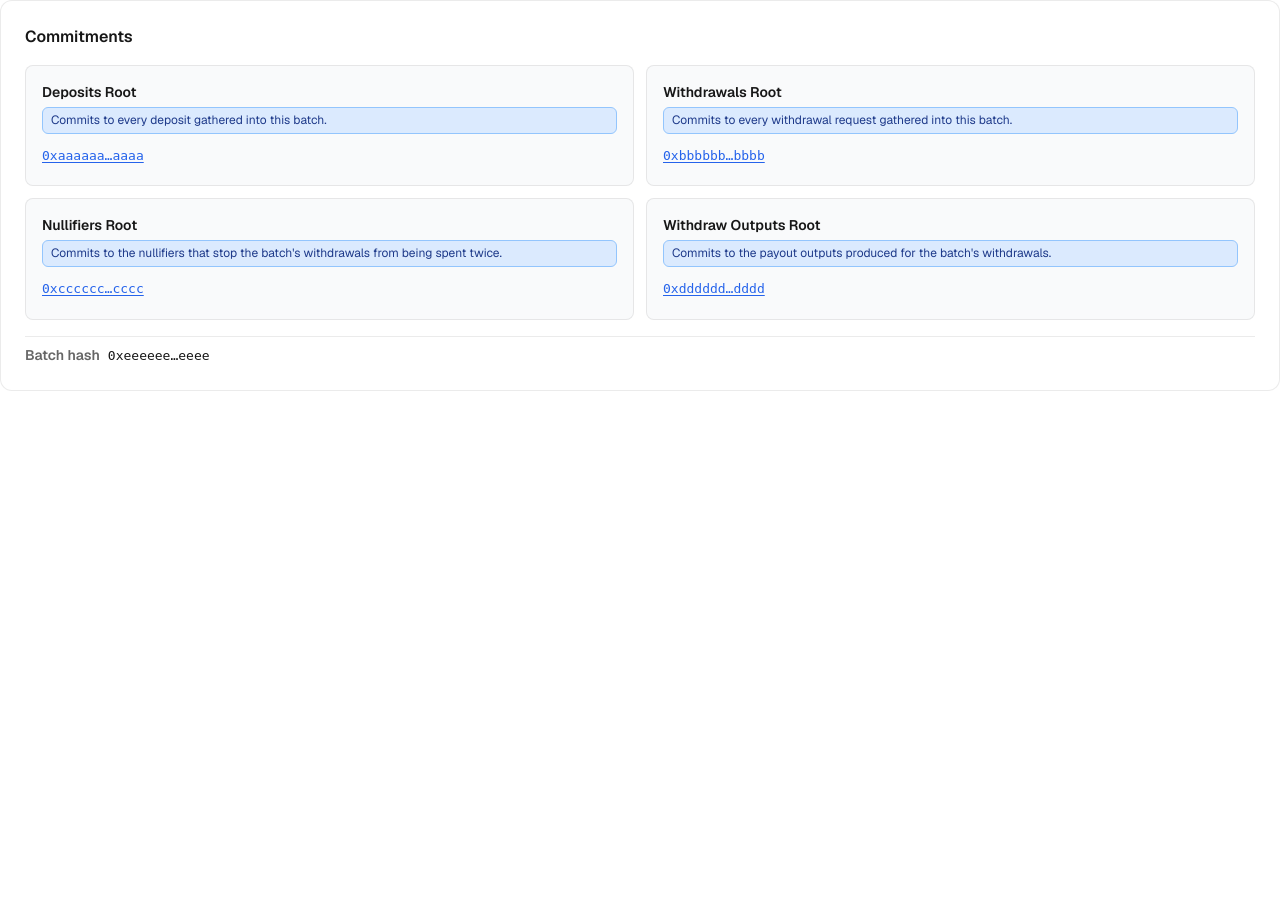
Scenario: CommitmentsCard › opens the reveal modal and copies the full root value on Copy (Req 7.9)
Note: Clicking a present root opens the reveal modal showing the full hex.
Click the button with aria-label "Reveal full Deposits Root".
click(93, 156)  # box x1=42 y1=142 x2=144 y2=169
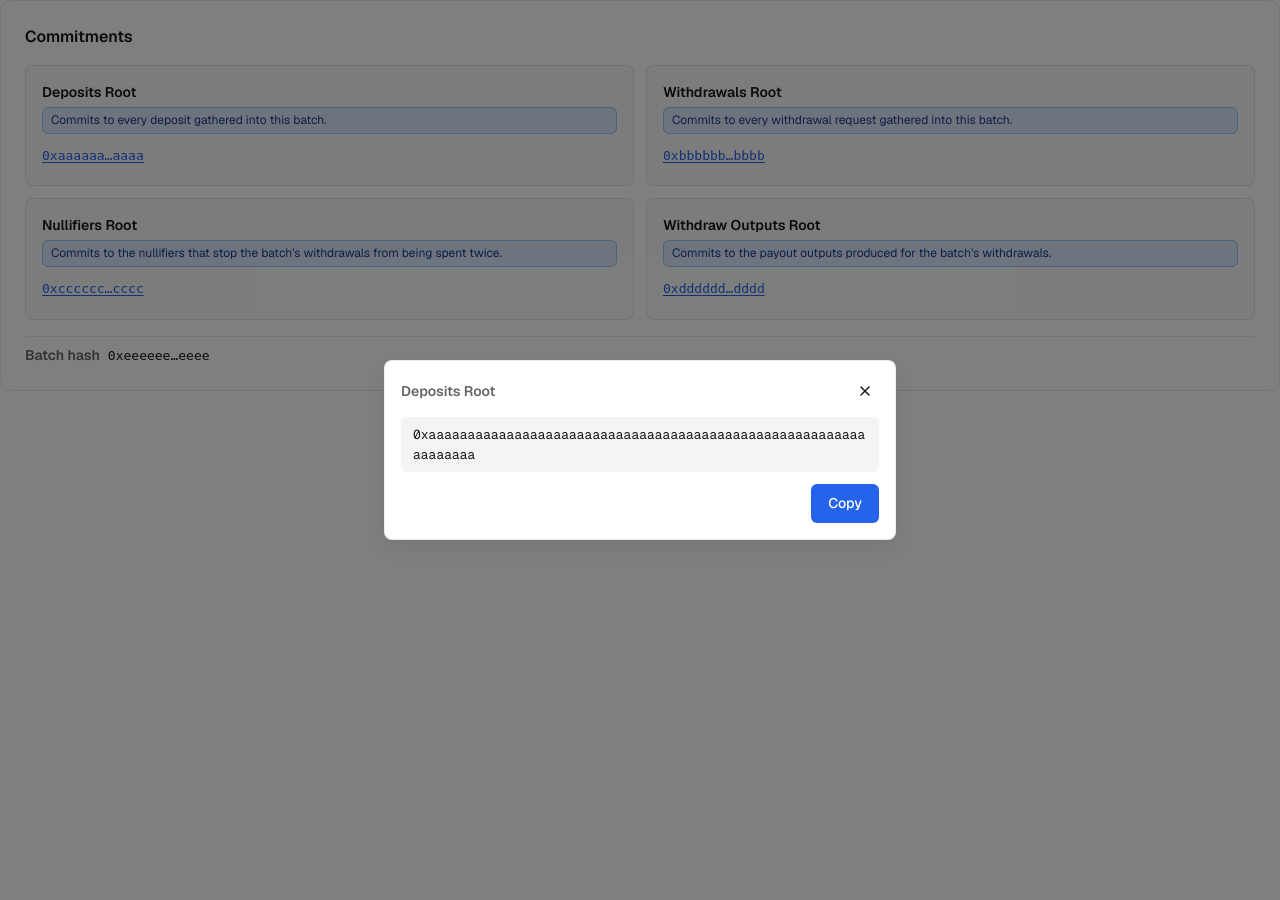
Now the dialog "Deposits Root" is shown, box x1=384 y1=360 x2=896 y2=540
Note: Copy writes the full (un-shortened) value to the clipboard.
Click the button "Copy".
click(845, 504)  # box x1=811 y1=484 x2=879 y2=523
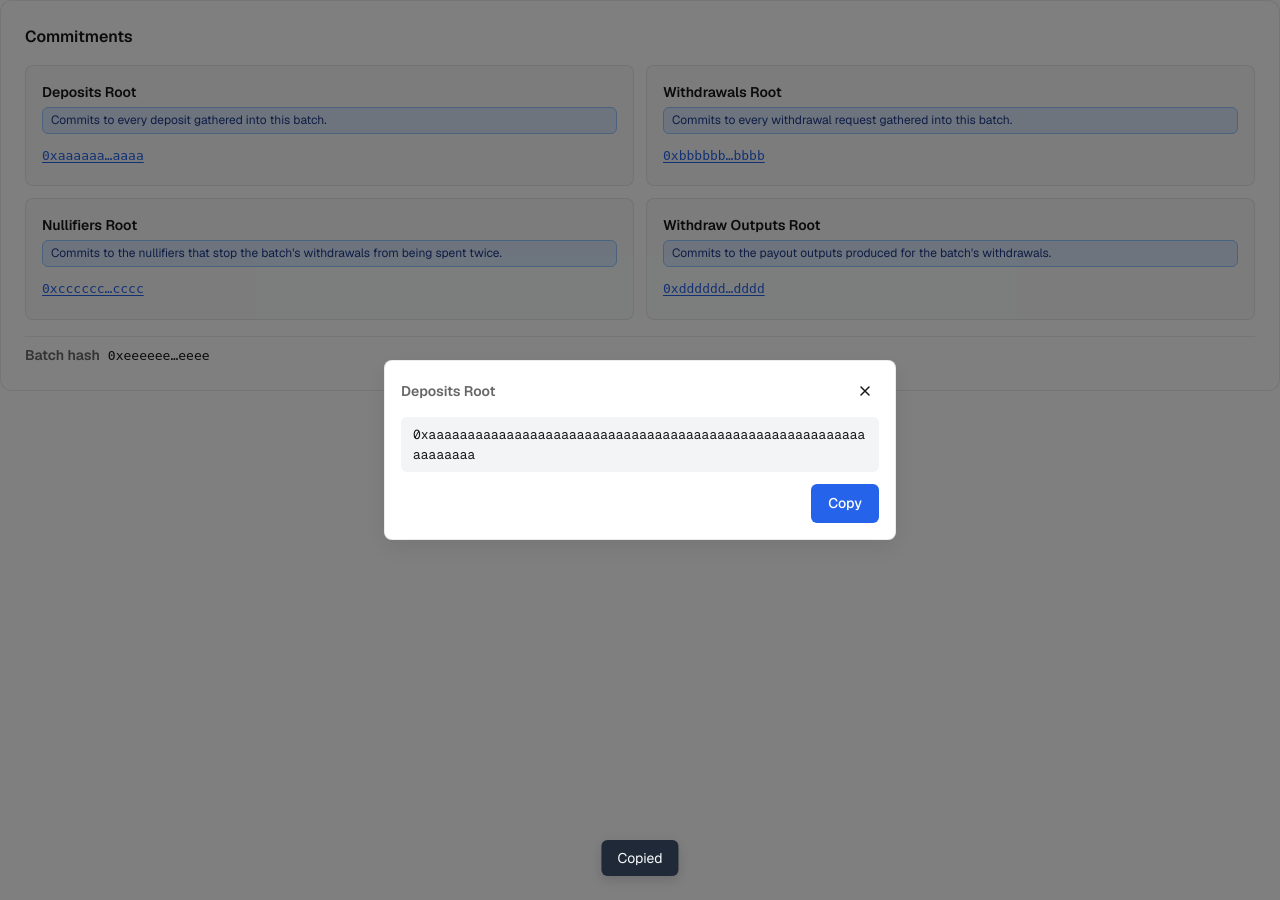
Now the text "Copied" is shown, box x1=601 y1=840 x2=678 y2=876
